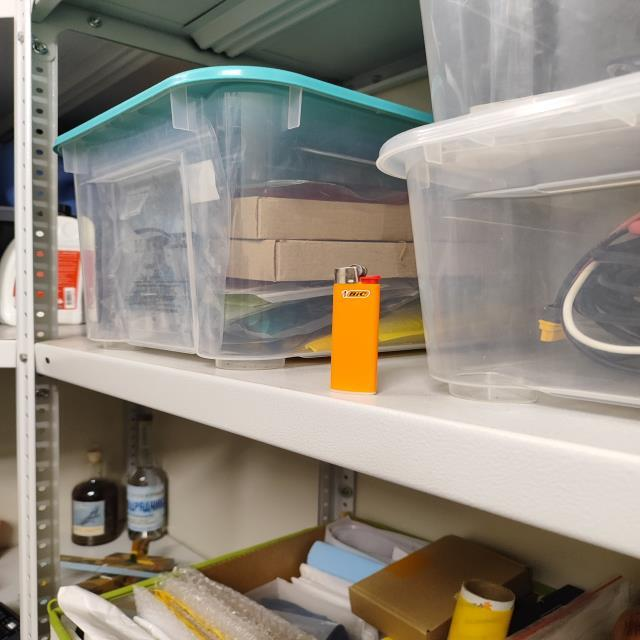lighter: (331, 265, 379, 394)
